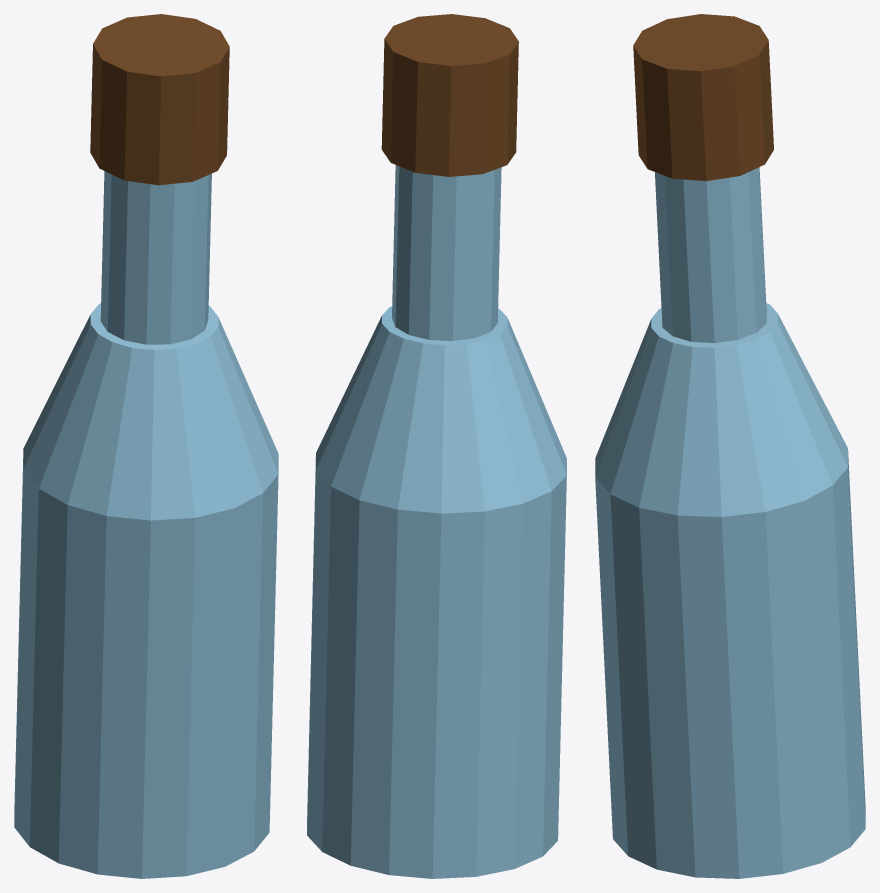
Rendered from bottle_1.fbx.
3 views of the same model, side by side, from view 1: azimuth 30°, elevation 25°; view 2: azimuth 150°, elevation 25°; view 3: azimuth 270°, elevation 25° (orthographic).
Visible parts, largest first — view 1: SCN_02_PotionSet_CleanMesh; view 2: SCN_02_PotionSet_CleanMesh; view 3: SCN_02_PotionSet_CleanMesh.
Part boxes in pixels (bbox=[...]): SCN_02_PotionSet_CleanMesh: bbox=[14, 14, 278, 878]; SCN_02_PotionSet_CleanMesh: bbox=[307, 14, 566, 878]; SCN_02_PotionSet_CleanMesh: bbox=[595, 14, 865, 878].
Bounding box in the file's own units: 0.36 × 1.22 × 0.3791.
